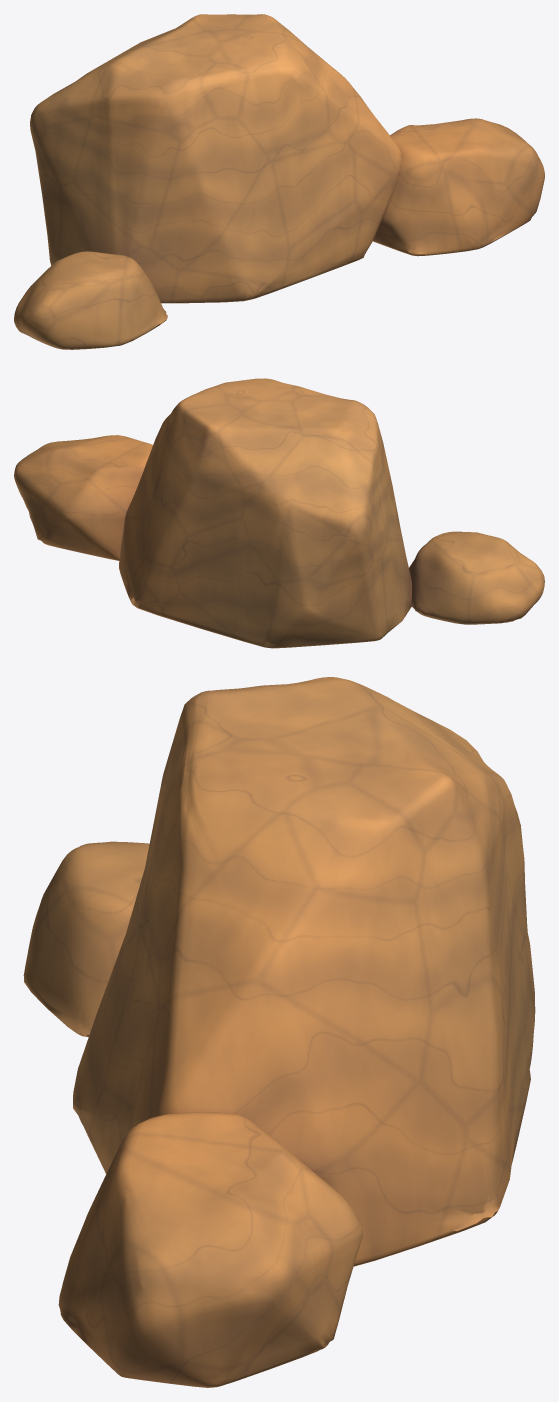
File: SD_P03_Rock_Set_A.fbx
3 views of the same model, one above another, from view 1: azimuth 30°, elevation 25°; view 2: azimuth 150°, elevation 25°; view 3: azimuth 270°, elevation 25° (orthographic). The views are drawn at different scales.
Visible parts, largest first — view 1: Rock_A; view 2: Rock_A; view 3: Rock_A.
Boxes of the visible parts, bbox=[...] form: Rock_A: bbox=[14, 14, 544, 349]; Rock_A: bbox=[14, 378, 544, 648]; Rock_A: bbox=[23, 677, 535, 1387].
Size of the model in its own units: 2.57 by 0.9683 by 1.15.
